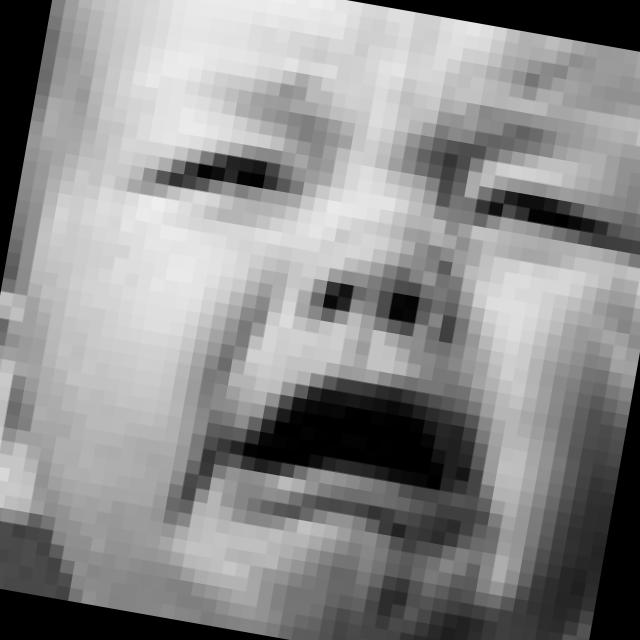sad: (51, 51, 640, 640)
